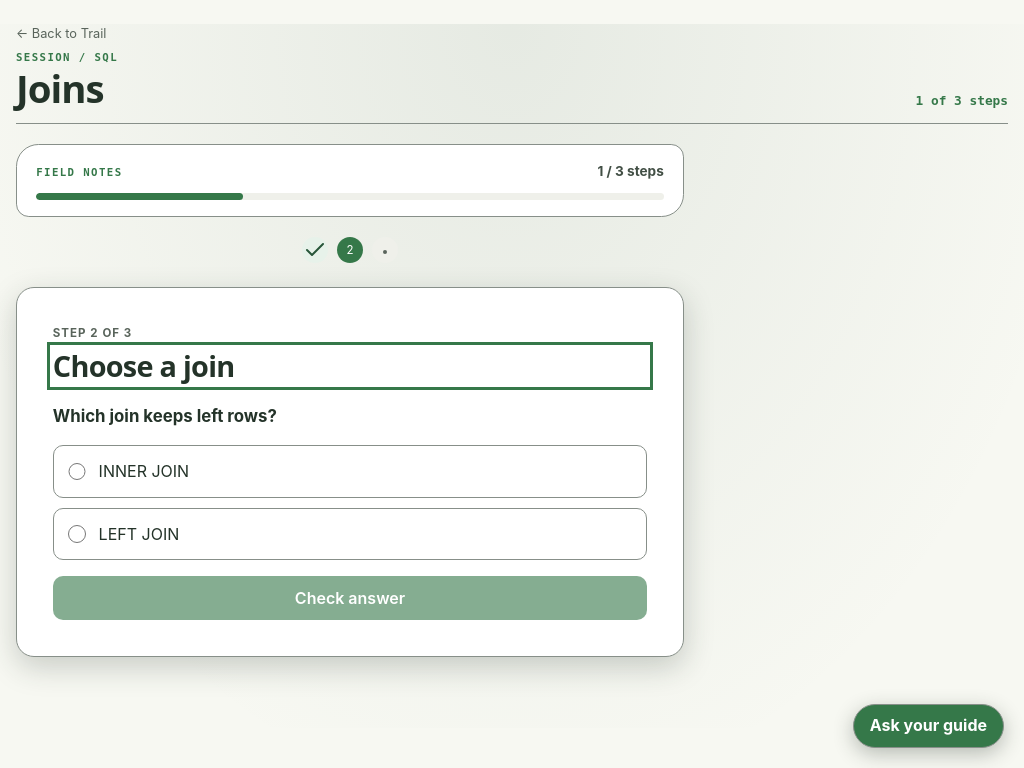
SessionPlayer › allows a completed block to be reopened in read-only review
Click the button named "review start here" at (315, 250), box 302,237 -> 328,263
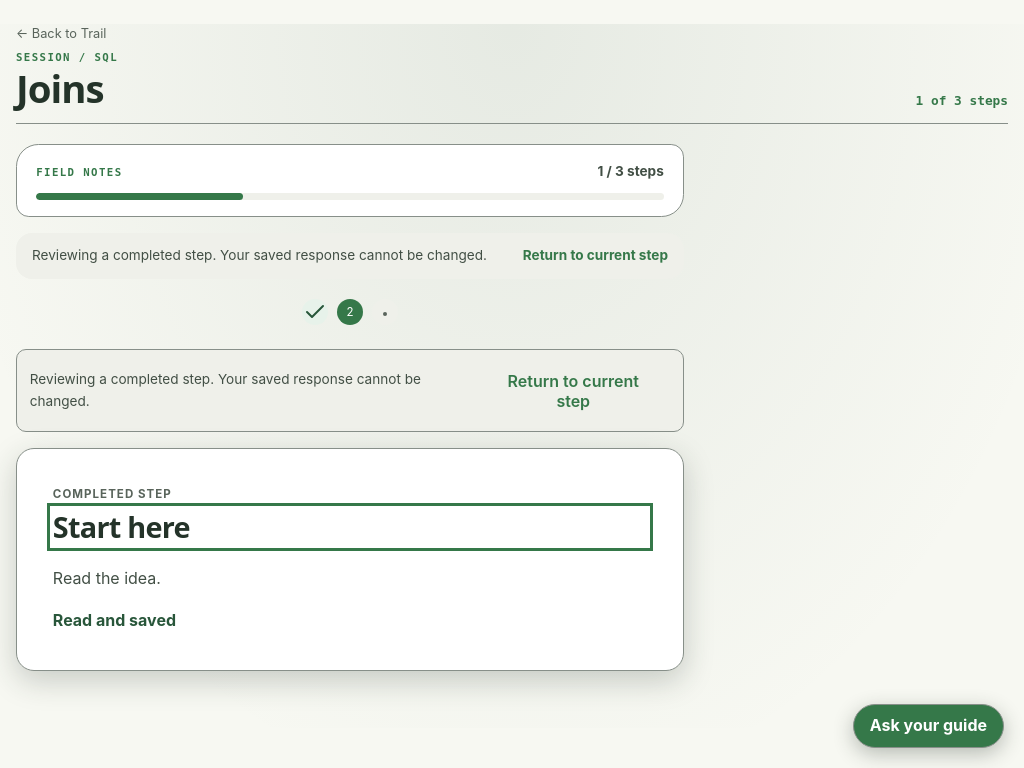
Check: the text "Read the idea." is shown, box 53,568 -> 161,588
Check: the text "Read and saved" is shown, box 53,610 -> 176,630
